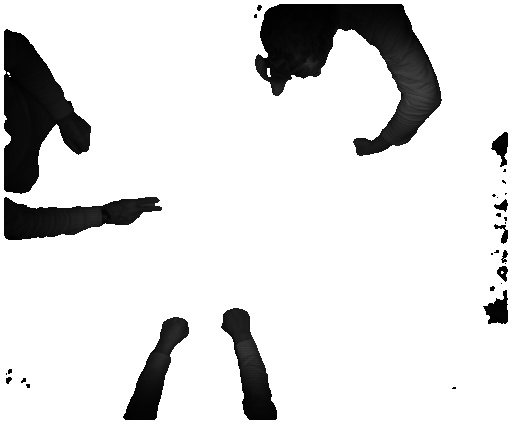fist: (62, 114, 95, 159), (152, 312, 191, 348), (216, 304, 255, 338), (352, 137, 375, 159)
hand: (107, 192, 167, 231)
